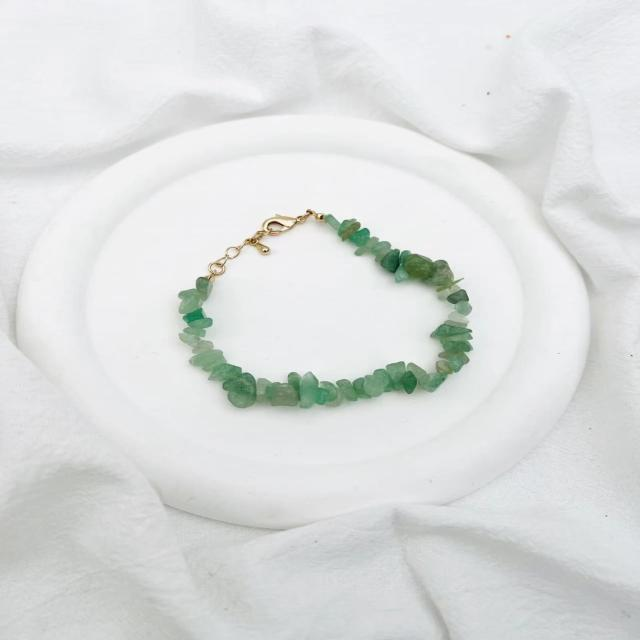bracelet: (131, 175, 555, 438)
